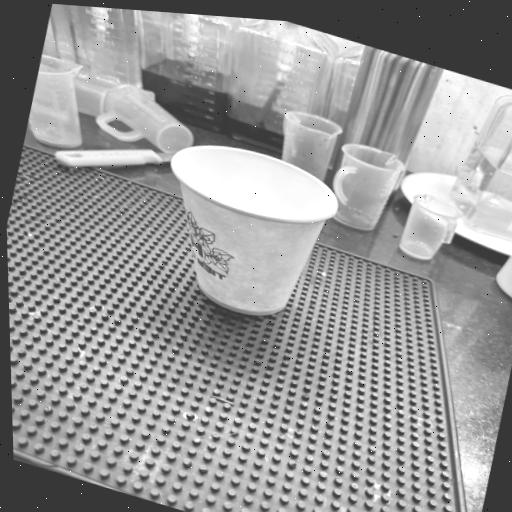Ly_giay: (171, 146, 338, 315)
ly_nhua: (171, 146, 338, 315)
